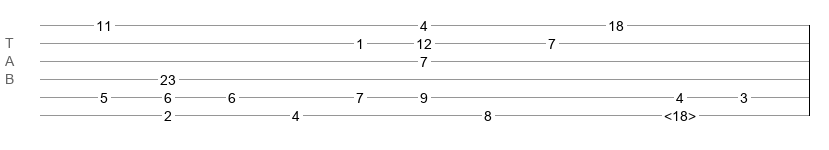1: (356, 36, 364, 46)
11: (96, 18, 112, 28)
12: (416, 36, 432, 46)
18: (608, 18, 624, 28)
2: (164, 108, 172, 118)
23: (160, 72, 176, 82)
3: (740, 90, 748, 100)
4: (292, 108, 300, 118), (420, 18, 428, 28), (676, 90, 684, 100)
5: (100, 90, 108, 100)
6: (164, 90, 172, 100), (228, 90, 236, 100)
7: (356, 90, 364, 100), (420, 54, 428, 64), (548, 36, 556, 46)
8: (484, 108, 492, 118)
9: (420, 90, 428, 100)
harmonic: (664, 108, 696, 118)
